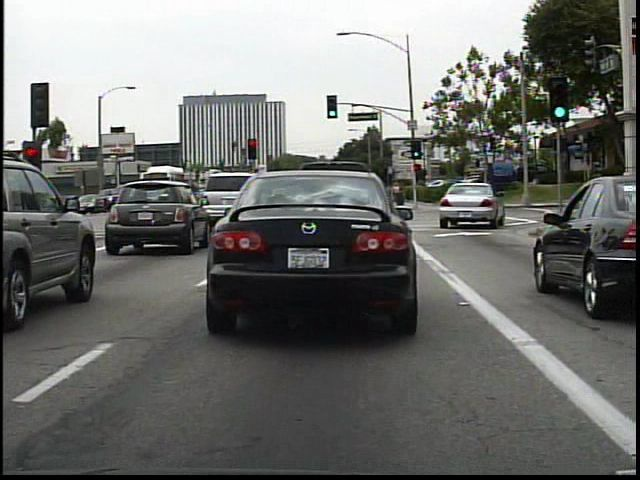person: (387, 176, 406, 211)
